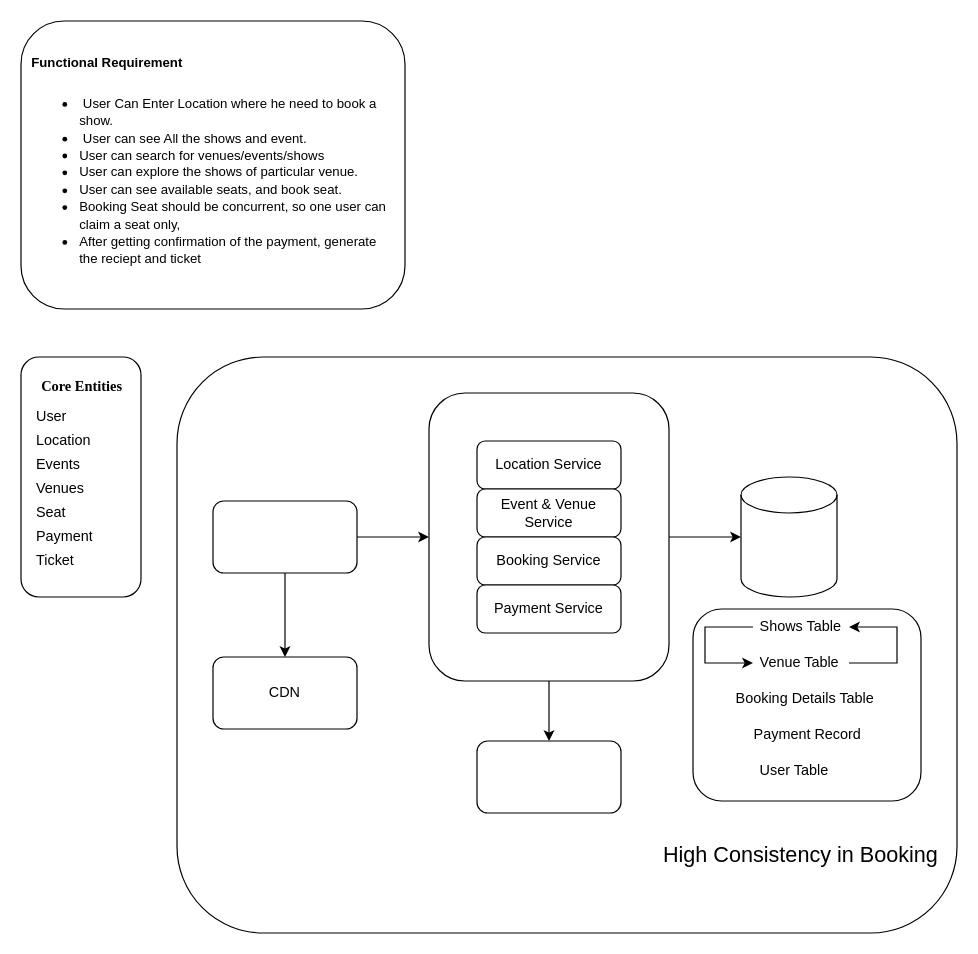
Image size: 978x954. Some labels were removed from this diagram. Here are the shapes that lost their labels. From the top down, the centre of each, then its label:
At [284,536]: "Client".
At [788,536]: "SQL Database".
At [548,776]: "REDIS".
